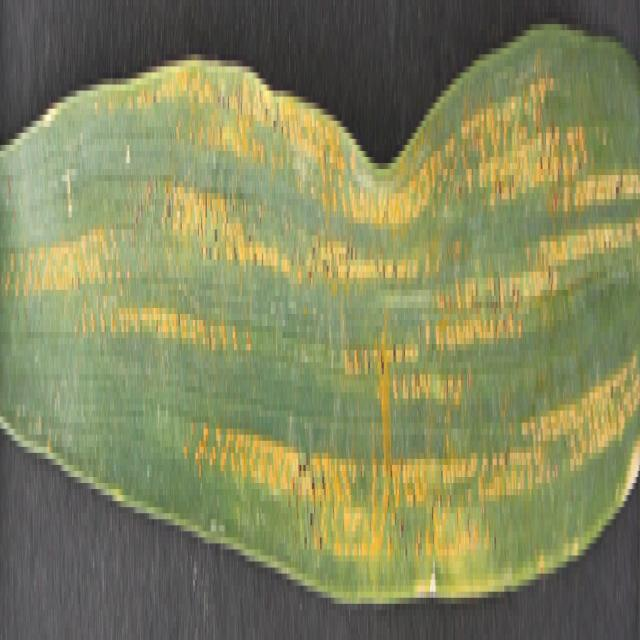leaf rust: (4, 42, 640, 579)
